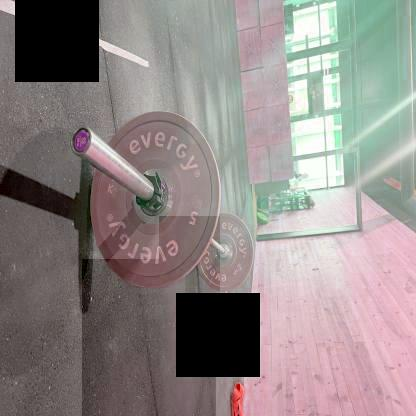barbell: (83, 260, 217, 416), (160, 217, 221, 295)
